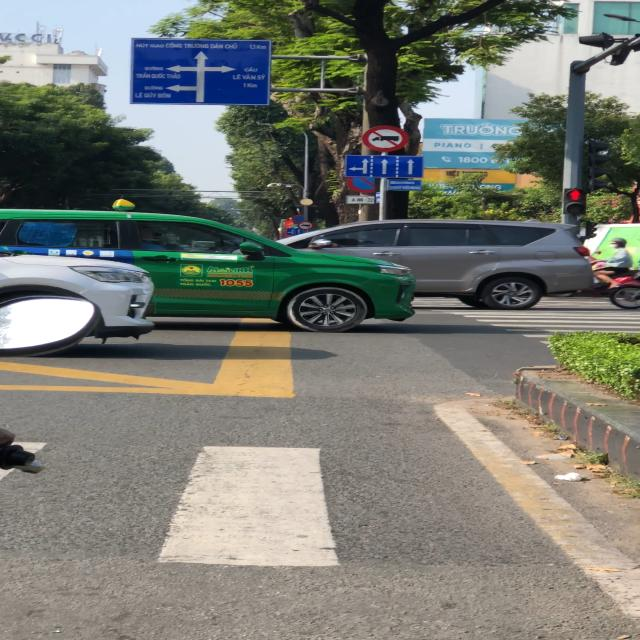Bien bao cam xe so-mi ro-mooc: (361, 122, 413, 152), (296, 219, 316, 231)
